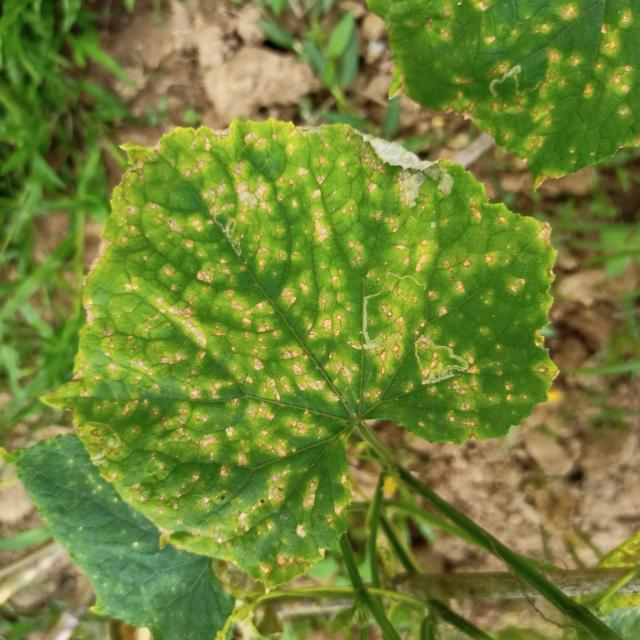disease_cucumber: (76, 120, 548, 565)
